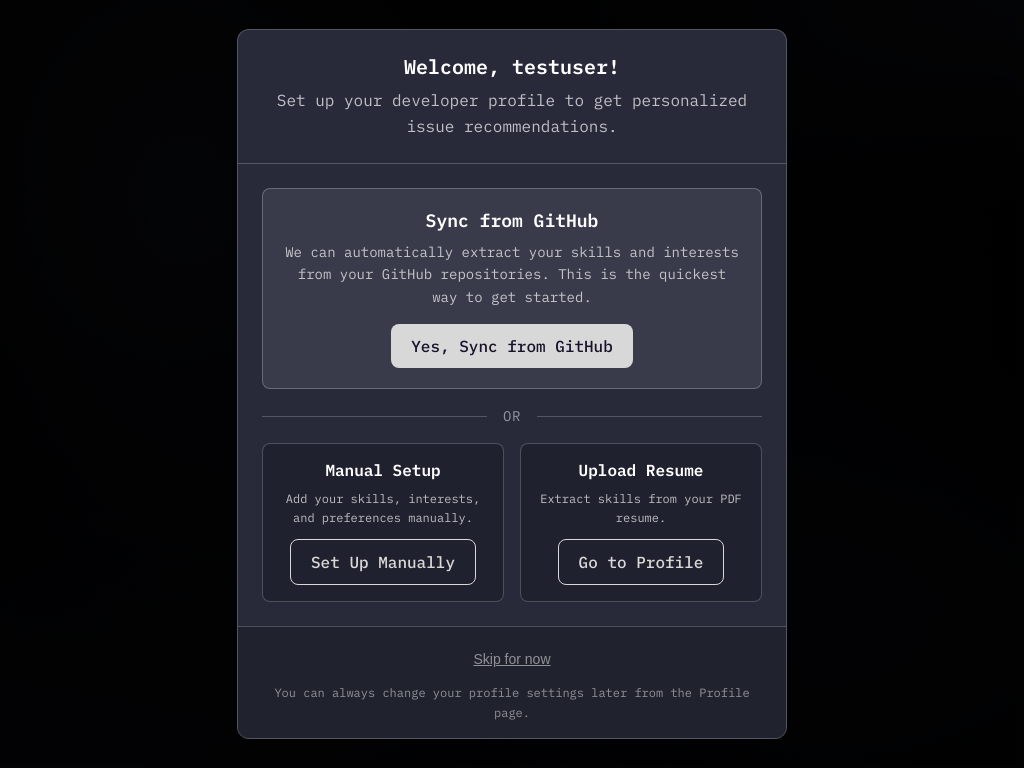
Test: FirstLoginPrompt › displays error message when sync fails
Click the button "Yes, Sync from GitHub" at (512, 346), box [391,324,633,368]
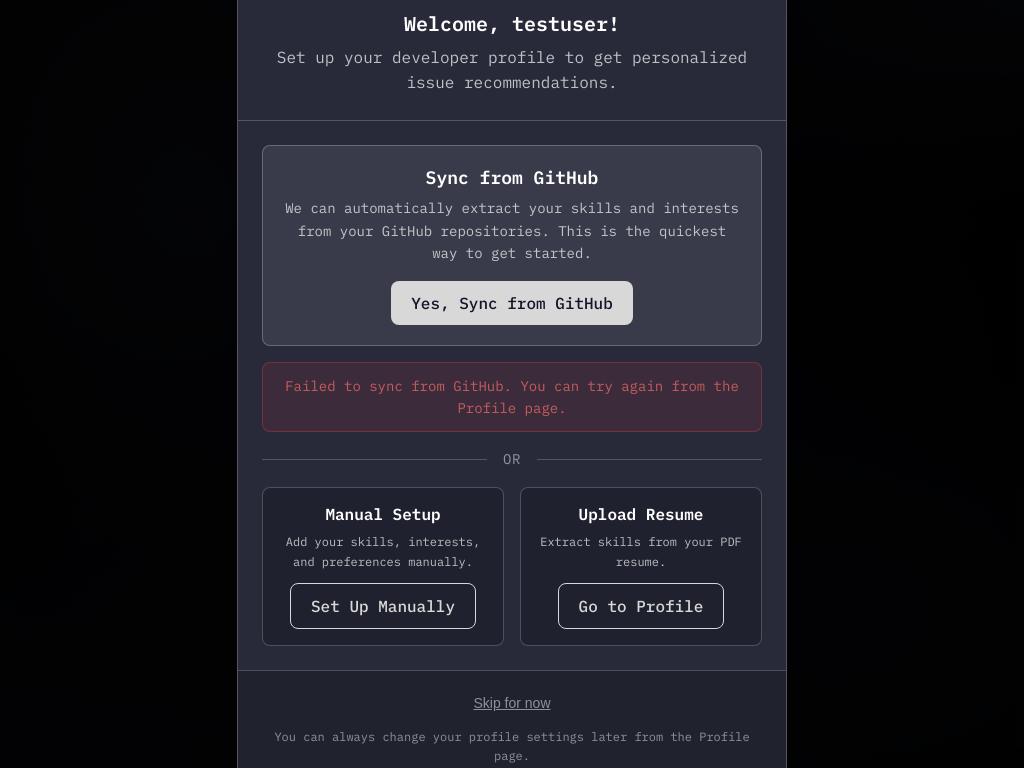
Check: the text "Failed to sync from GitHub" is shown, box [285,376,739,417]
